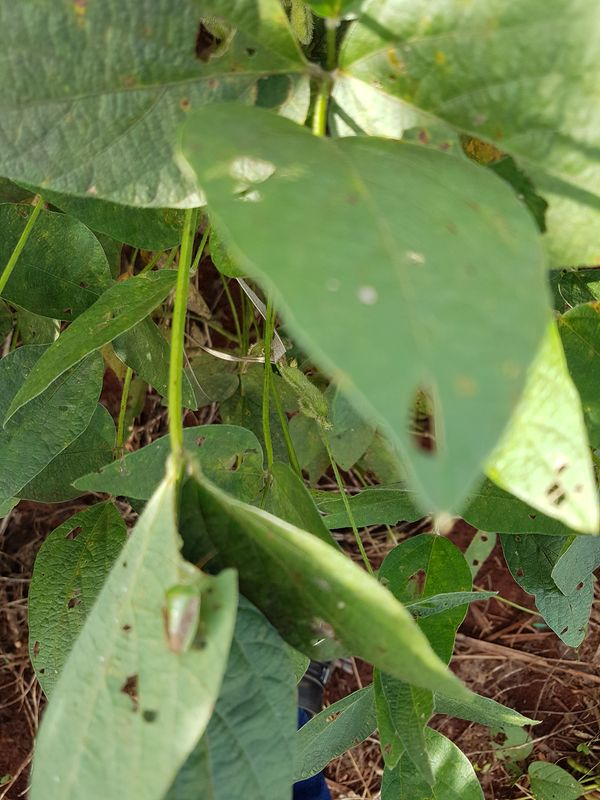Edessa_meditabunda: (145, 572, 222, 668)
